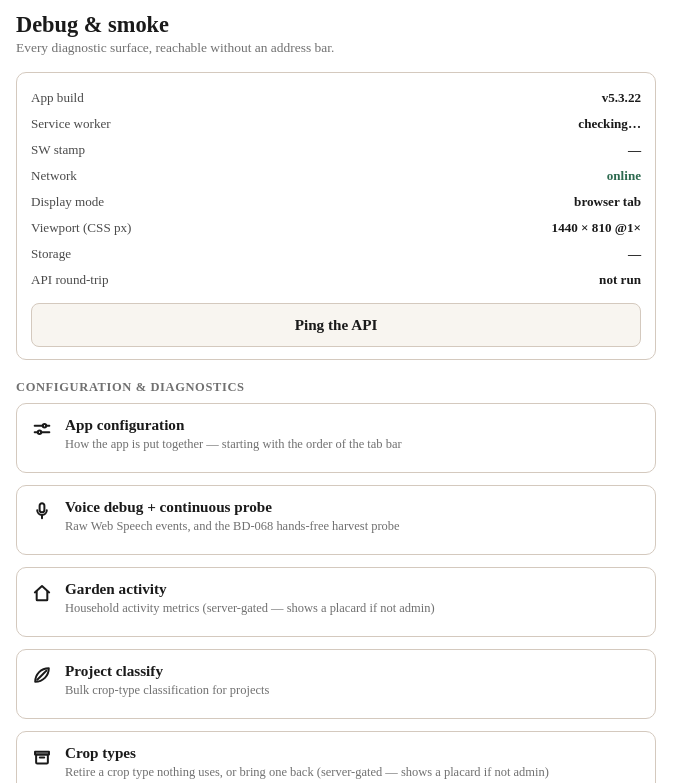
Test: DebugMenu — the diagnostic index › does NOT ping the API on mount — only when asked
expect the text "not run" is shown: met, box [599,272,641,288]
Click the button "Ping the API" at (336, 325), box [31,303,641,347]
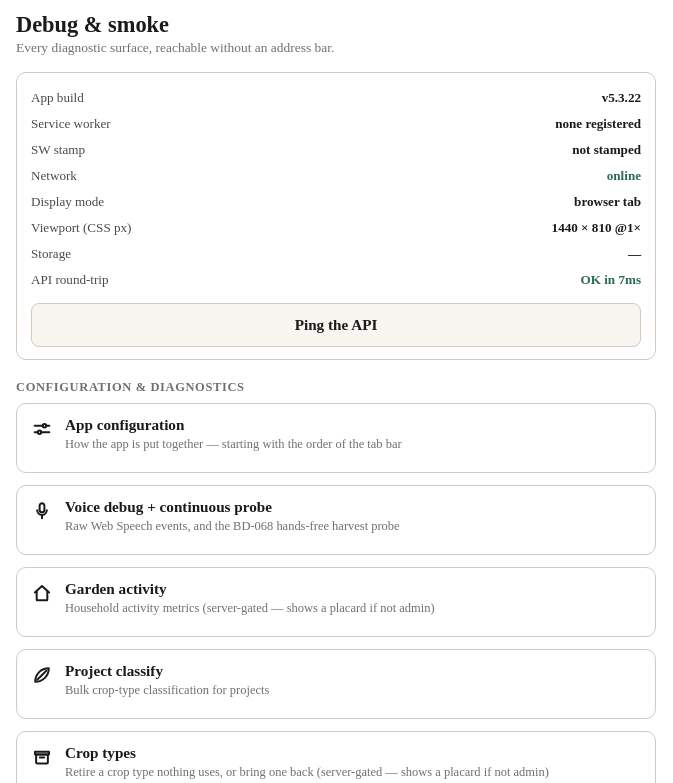
expect the text "OK in 7ms" is shown: met, box [580,272,641,288]
